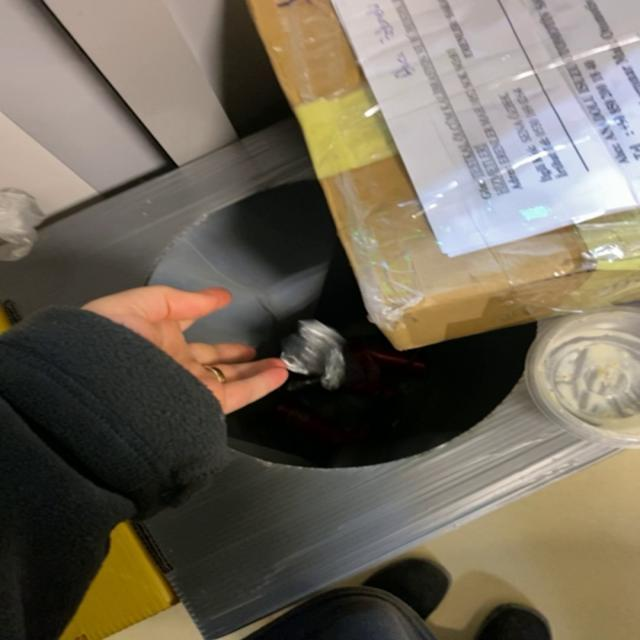Metal: (280, 320, 345, 391)
